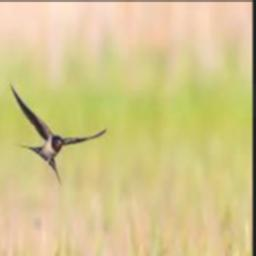Swallow: (11, 84, 108, 181)
